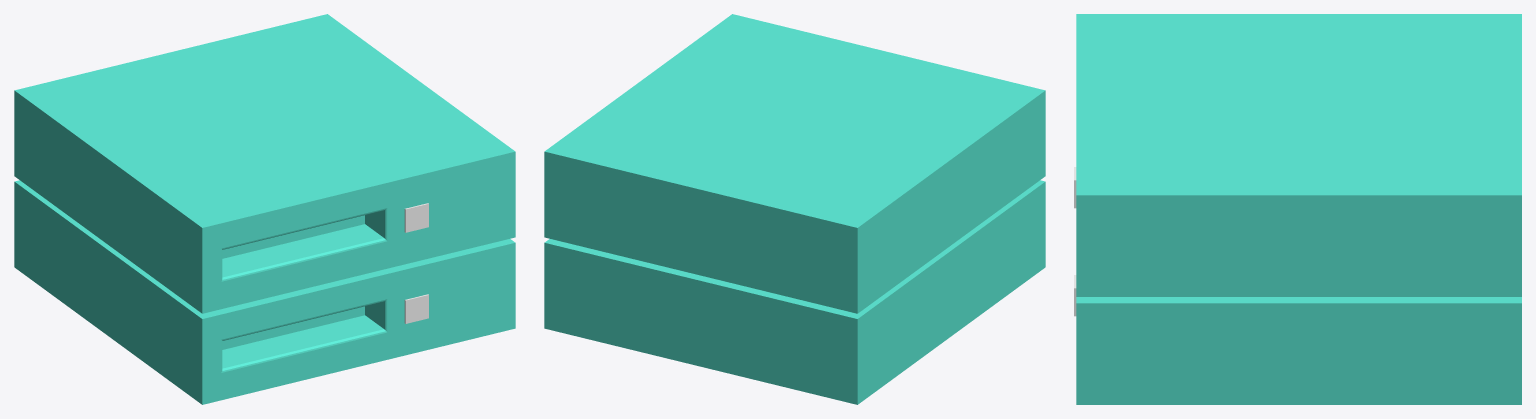
3 views of the same model, side by side, from view 1: azimuth 30°, elevation 25°; view 2: azimuth 150°, elevation 25°; view 3: azimuth 270°, elevation 25° (orthographic). The views are drawn at different scales.
Visible parts, largest first — view 1: box, point; view 2: box; view 3: box.
Part boxes in pixels (bbox=[...]): box: bbox=[14, 14, 515, 404]; point: bbox=[404, 203, 428, 323]; box: bbox=[544, 14, 1045, 404]; box: bbox=[1076, 14, 1521, 404].
Bounding box in the file's own units: 1.18 × 0.6373 × 1.23.
